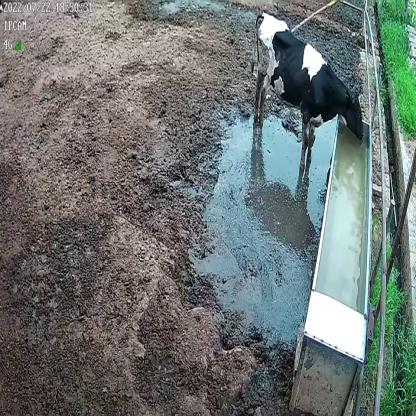cow: (250, 8, 365, 167)
